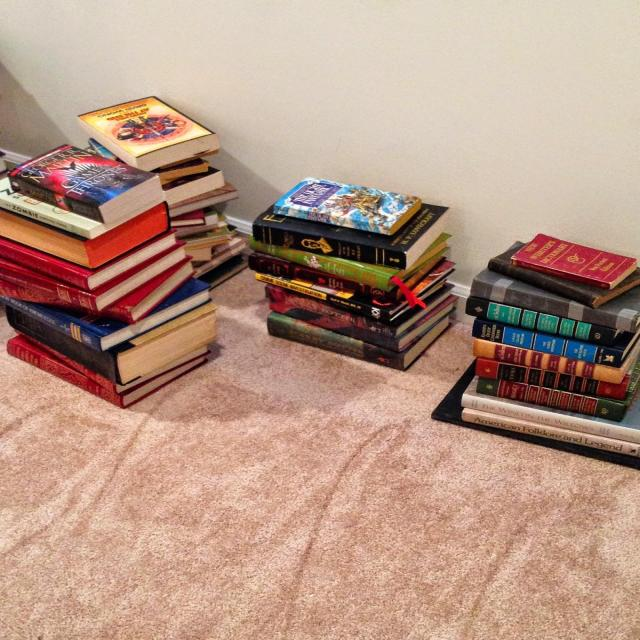paper: (0, 146, 223, 410), (432, 232, 640, 477), (252, 176, 460, 373), (82, 92, 256, 294)
